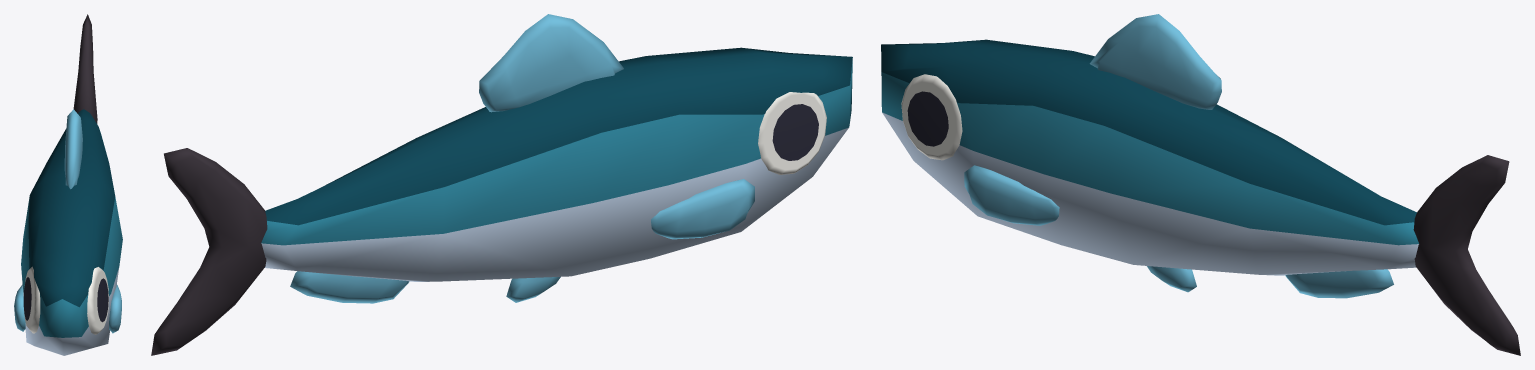
The model's file is feesh.fbx.
The picture shows the model from 3 angles, left to right: view 1: azimuth 30°, elevation 25°; view 2: azimuth 150°, elevation 25°; view 3: azimuth 270°, elevation 25°; orthographic projection. The views are drawn at different scales.
Parts seen in each view (by area): view 1: Herring_LOD1; view 2: Herring_LOD1; view 3: Herring_LOD1.
Part boxes in pixels (x1,y1,x2,y2): Herring_LOD1: [14, 14, 122, 355]; Herring_LOD1: [151, 14, 852, 355]; Herring_LOD1: [881, 14, 1520, 355].
Size of the model in its own units: 61.07 by 43.45 by 93.14.
